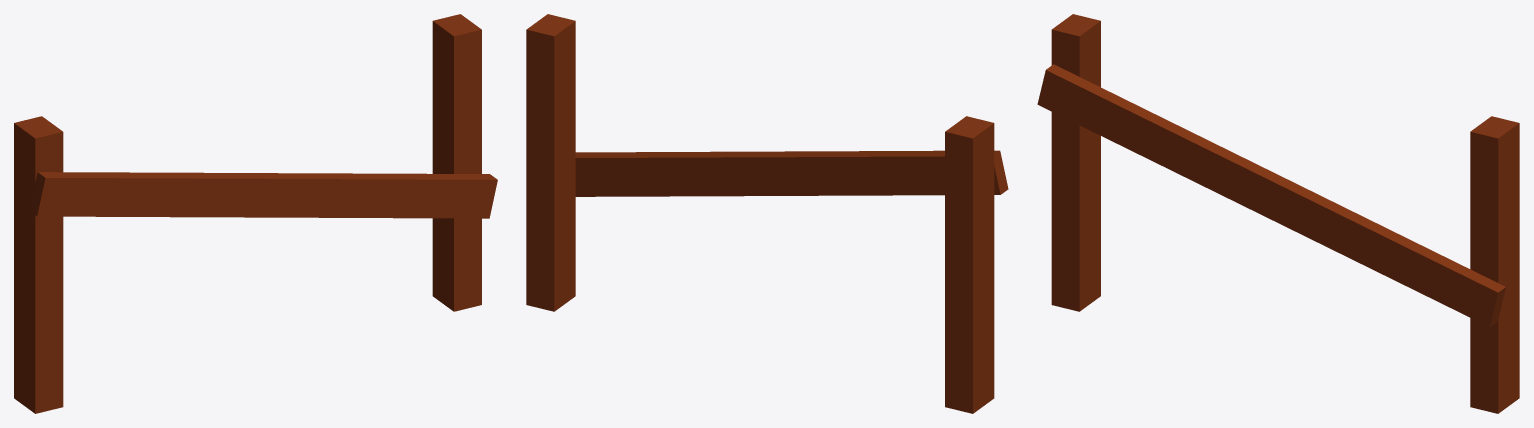
The model's file is fence2.fbx.
3 renders of one model, left to right at view 1: azimuth 30°, elevation 25°; view 2: azimuth 150°, elevation 25°; view 3: azimuth 330°, elevation 25°, orthographic.
Visible parts, largest first — view 1: Cube; view 2: Cube; view 3: Cube.
Part boxes in pixels (left/top/right/bottom): Cube: left=14, top=14, right=497, bottom=413; Cube: left=526, top=14, right=1008, bottom=413; Cube: left=1037, top=14, right=1519, bottom=413.
Size of the model in its own units: 329 by 188 by 36.3.
